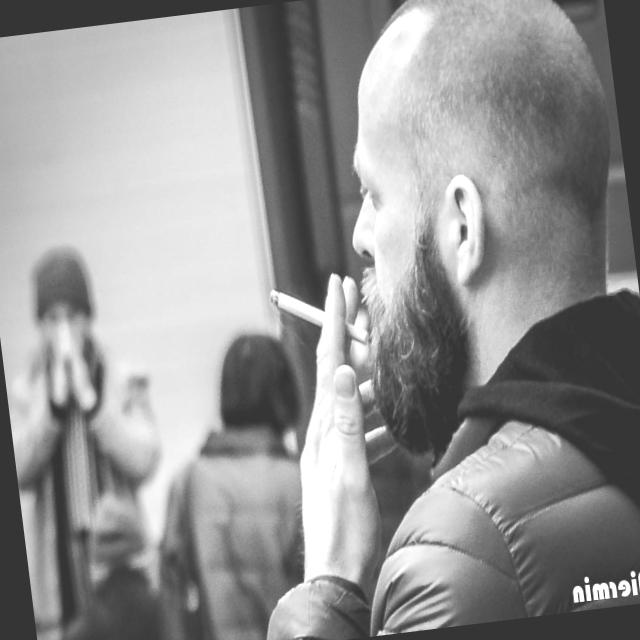smoke: (260, 260, 377, 362)
